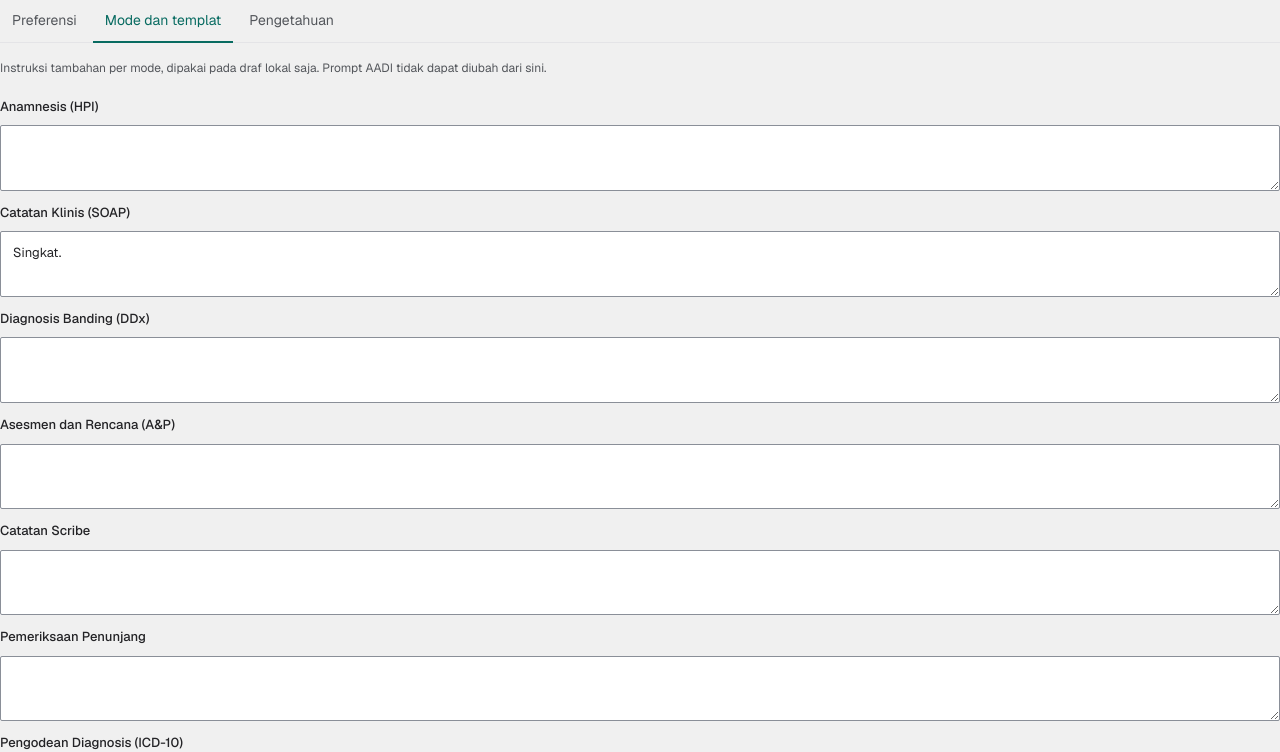
AgentSettings › each tab's save button saves only that tab, and keeps the other tab's unsaved edits
Earlier steps of the test are not shown.
Click the tab "Preferensi": (44,22) [0, 0, 89, 43]
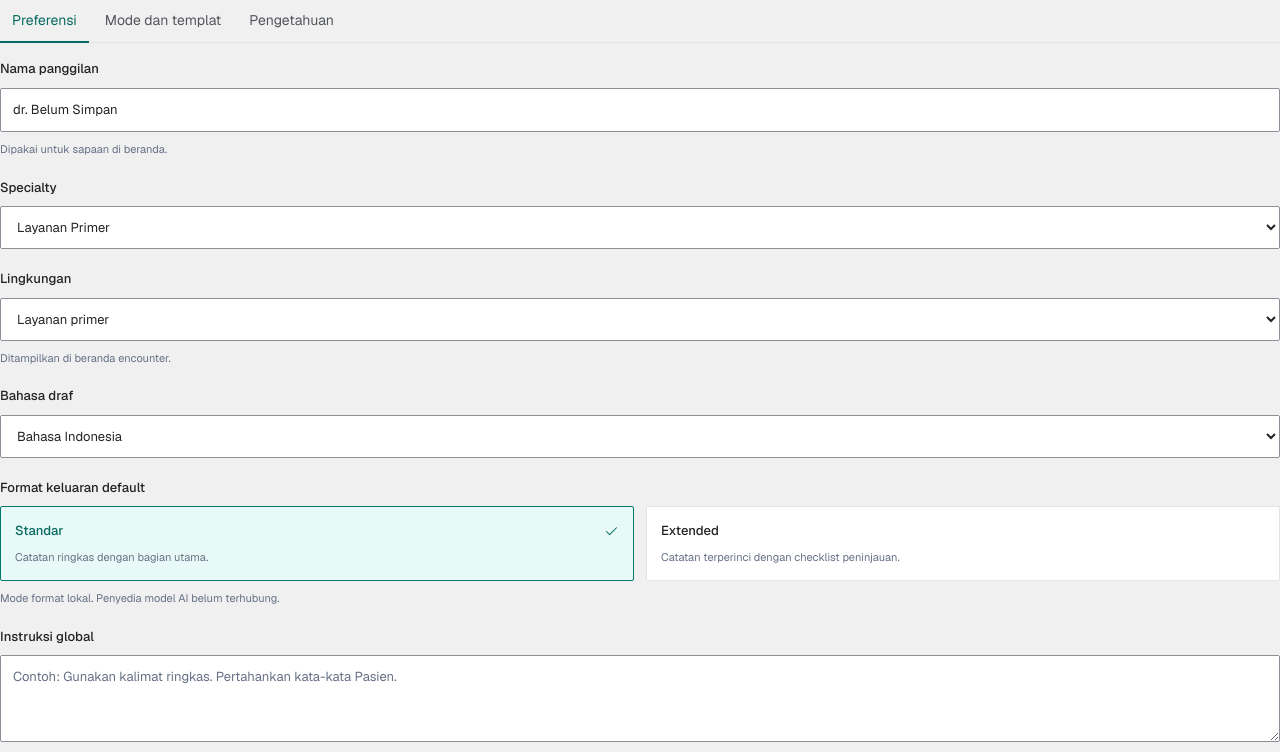
Expected: the field labelled "Nama panggilan" holds "dr. Belum Simpan", [0, 88, 1279, 132]
